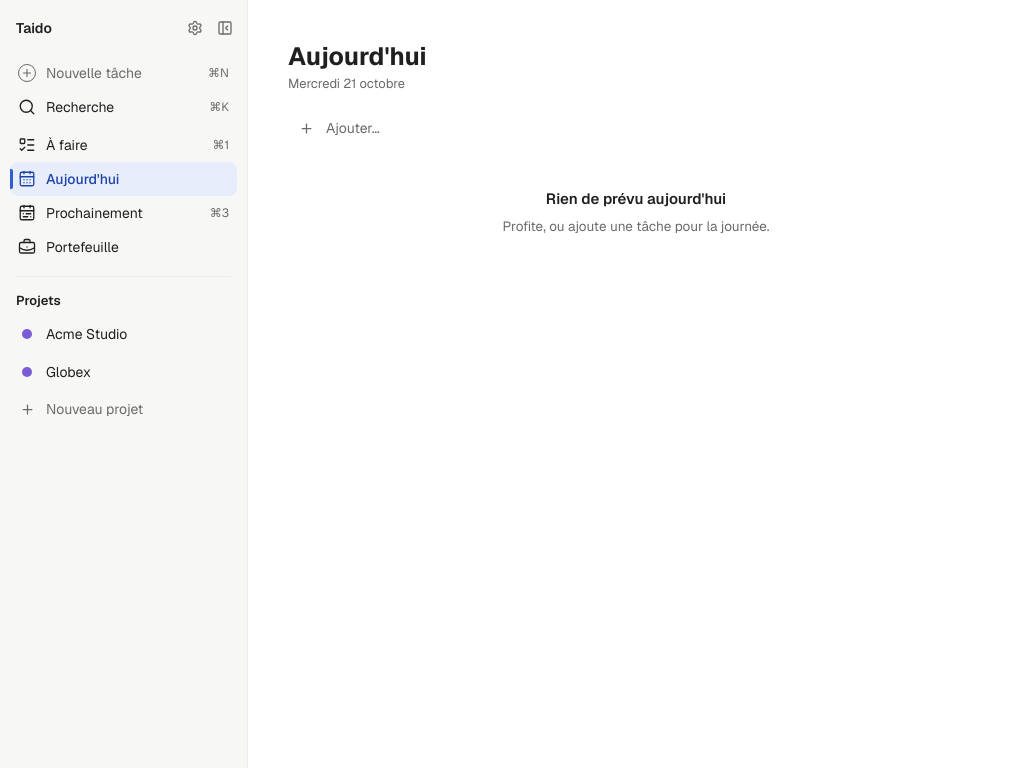
Test: groups in the sidebar › groups selected projects into a new group named in place
This screenshot has width=1024, height=768.
Click the button "Acme Studio". click: click(124, 334)
box: [10,317,237,351]
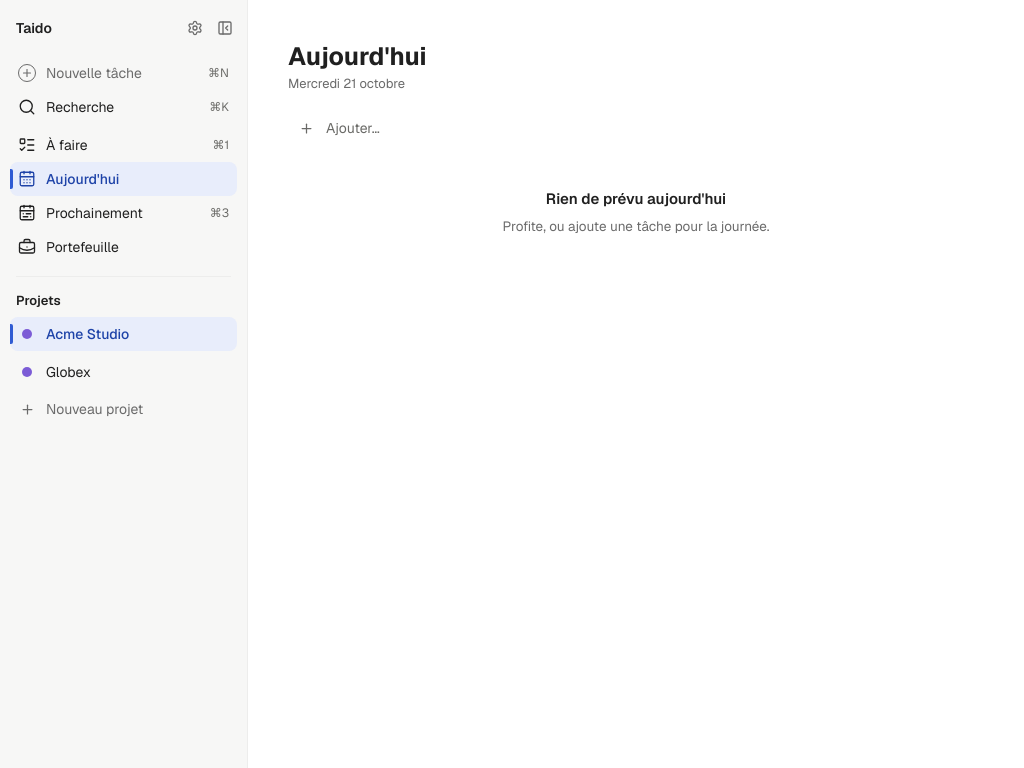
Click the button "Globex". click: click(124, 372)
box: [10,355,237,389]
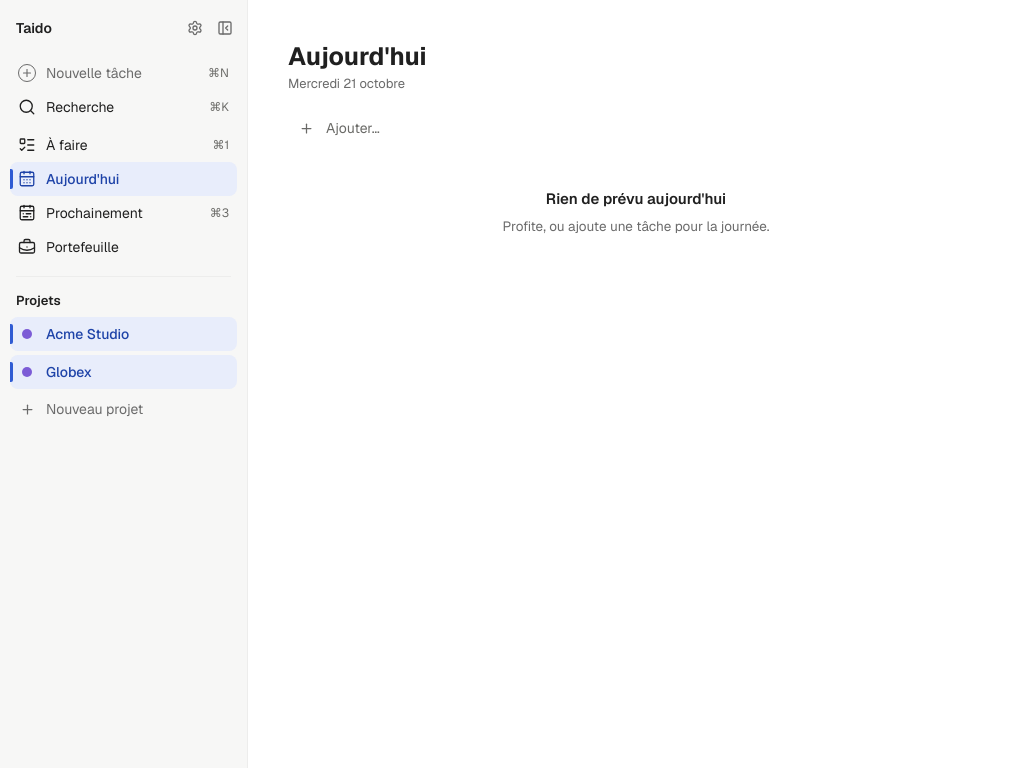
Right-click the button "Globex" at (124, 372), box [10,355,237,389]
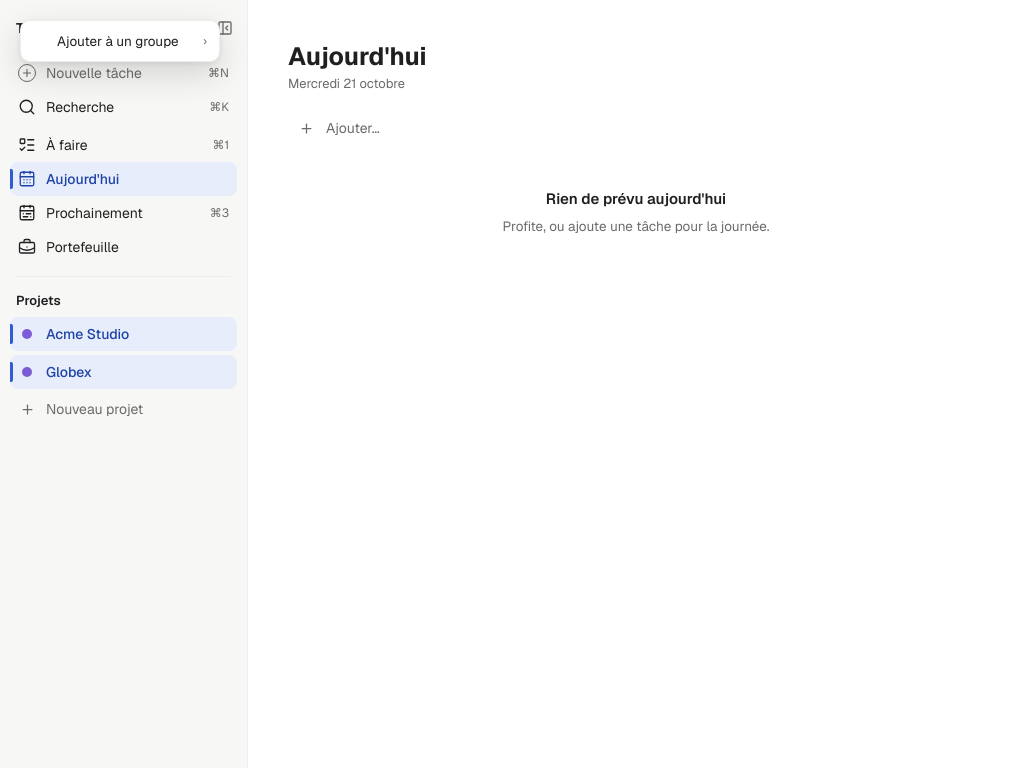
Click the menu item "Ajouter à un groupe ›". click: click(120, 41)
box: [25,25,215,57]
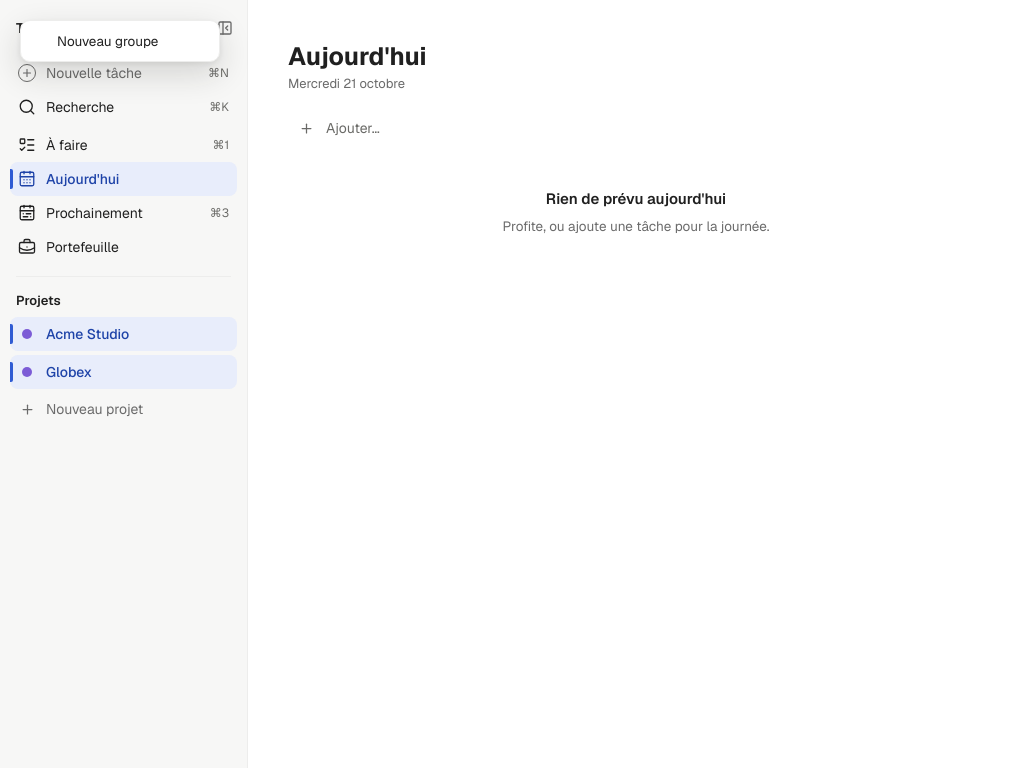
Click the menu item "Nouveau groupe". click: click(120, 41)
box: [25,25,215,57]
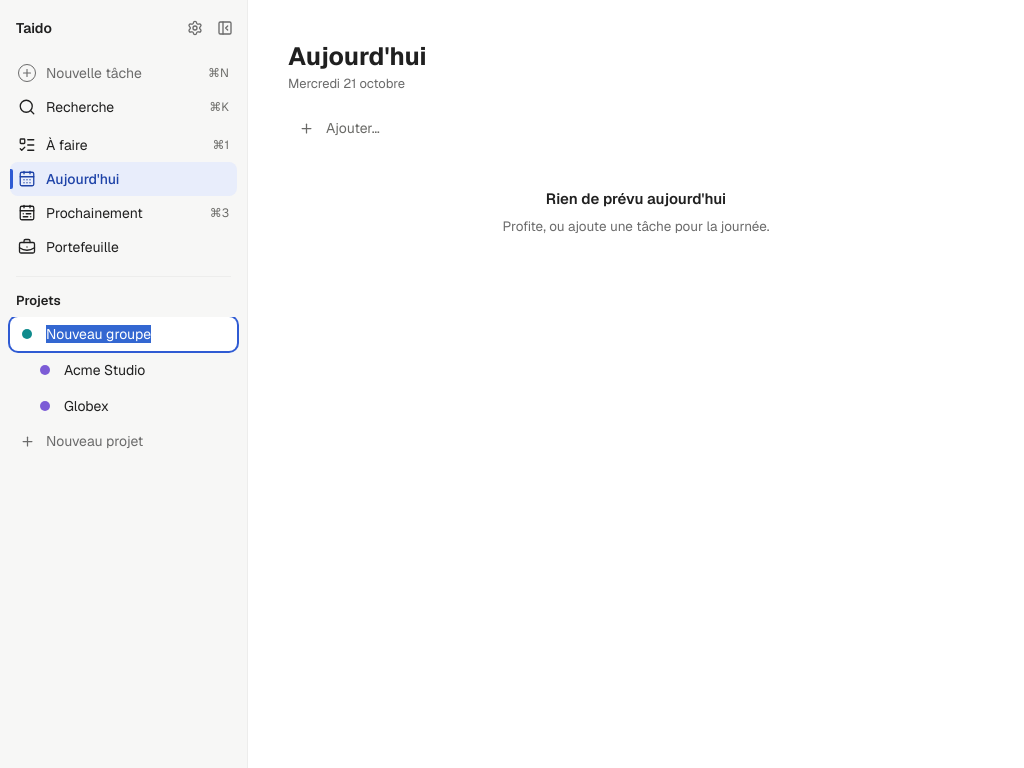
Replace the text in the field named "Nouveau groupe" with "Missions". click: (138, 334)
box: [46,317,229,351]
Then press Enter
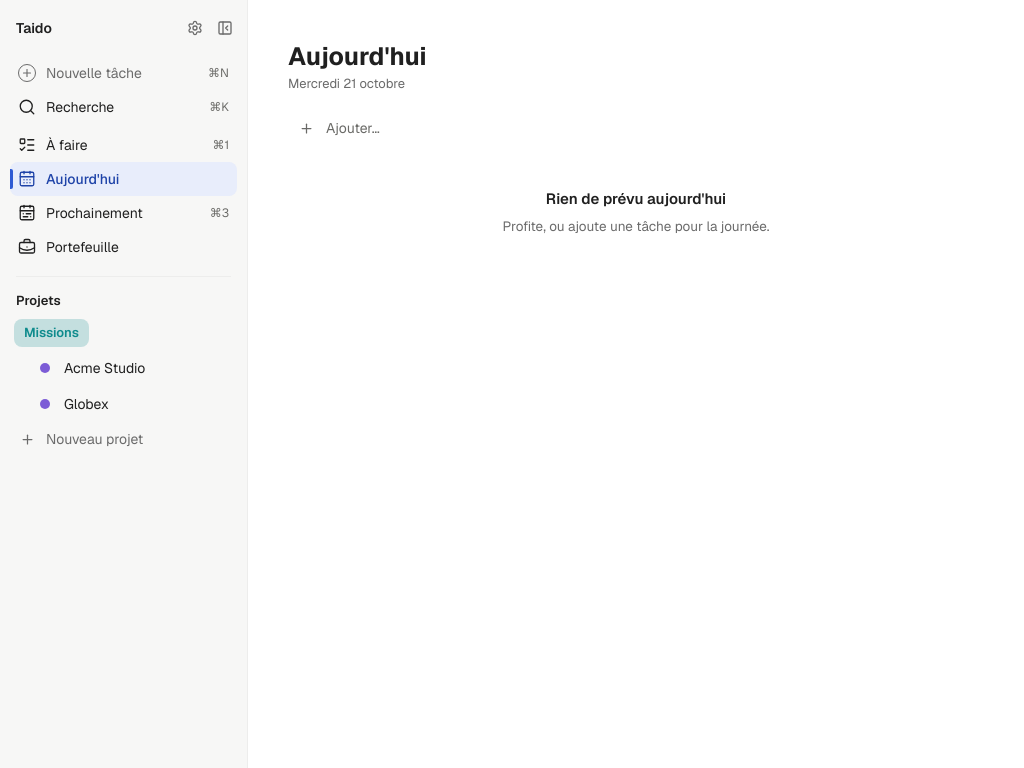
Expected: the button with aria-label "Replier le groupe « Missions »" is shown, [14,319,89,347]
Expected: the text "Missions" is shown, [24,323,79,343]
